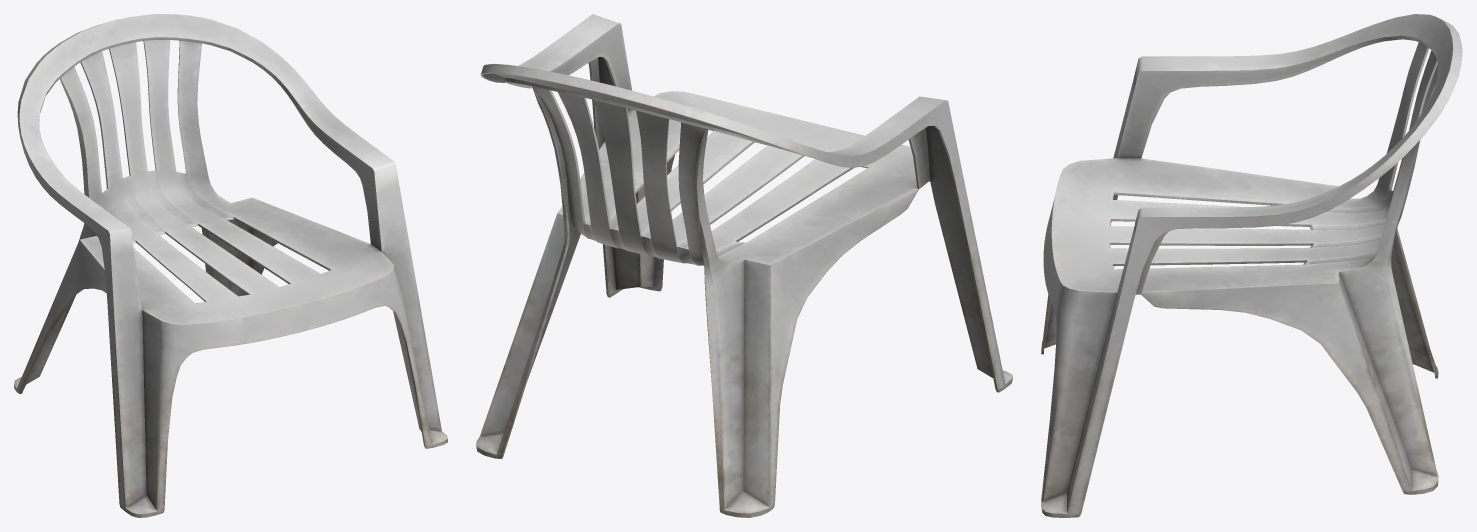
The model's file is ph-plastic-monobloc-chair-01.glb.
3 renders of one model, left to right at view 1: azimuth 30°, elevation 25°; view 2: azimuth 150°, elevation 25°; view 3: azimuth 270°, elevation 25°, orthographic. The views are drawn at different scales.
Parts seen in each view (by area): view 1: plastic_monobloc_chair_01; view 2: plastic_monobloc_chair_01; view 3: plastic_monobloc_chair_01.
Part boxes in pixels (left/top/right/bottom): plastic_monobloc_chair_01: left=14, top=14, right=447, bottom=517; plastic_monobloc_chair_01: left=476, top=14, right=1012, bottom=517; plastic_monobloc_chair_01: left=1041, top=14, right=1462, bottom=517.
Size of the model in its own units: 1 by 1 by 1.
1 material, 1 textured.
